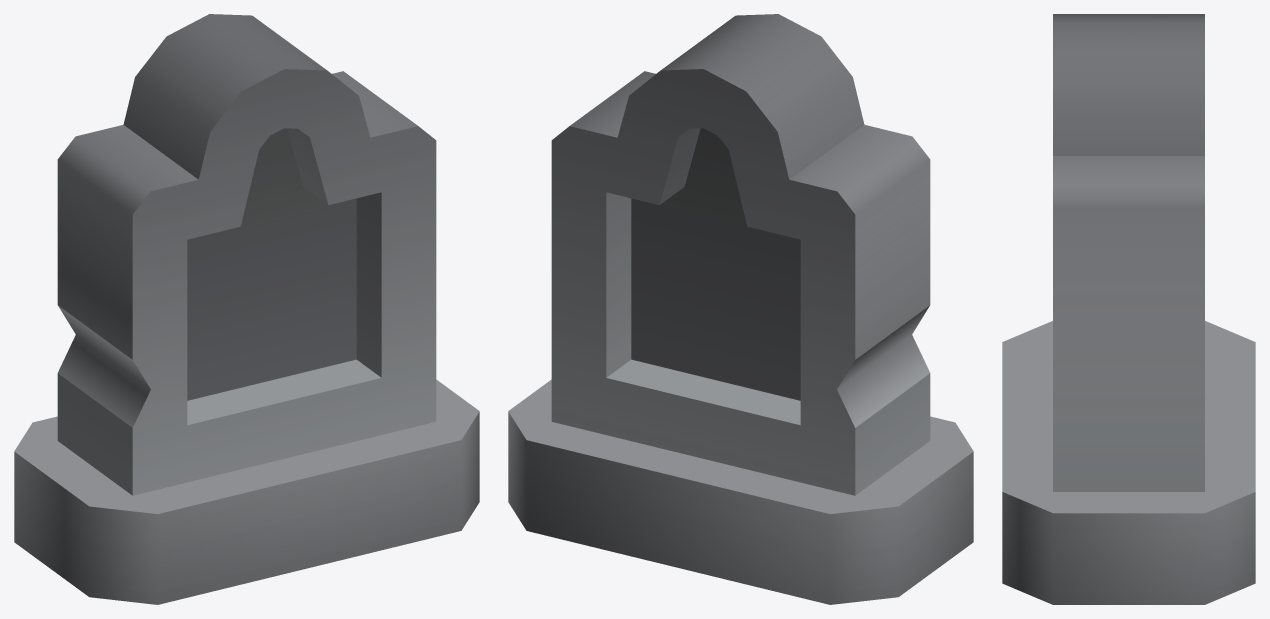
File: gravestone-bevel.glb
3 renders of one model, left to right at view 1: azimuth 30°, elevation 25°; view 2: azimuth 150°, elevation 25°; view 3: azimuth 270°, elevation 25°, orthographic.
Visible parts, largest first — view 1: gravestone-bevel; view 2: gravestone-bevel; view 3: gravestone-bevel.
Part boxes in pixels (x1=…): gravestone-bevel: x1=14, y1=14, x2=479, y2=604; gravestone-bevel: x1=508, y1=14, x2=973, y2=604; gravestone-bevel: x1=1002, y1=14, x2=1255, y2=604.
Size of the model in its own units: 0.675 by 0.794 by 0.375.
Materials: 1 (1 with a texture image).
